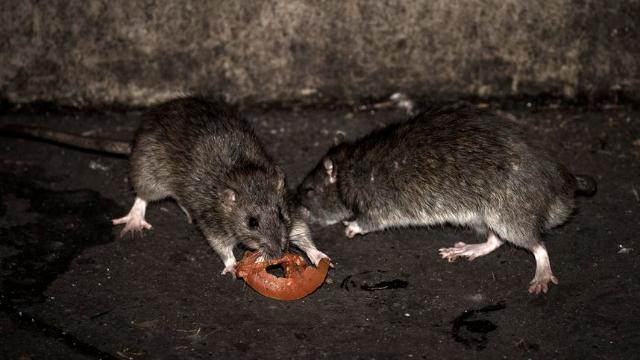rat: (272, 90, 586, 304), (91, 82, 302, 284)
